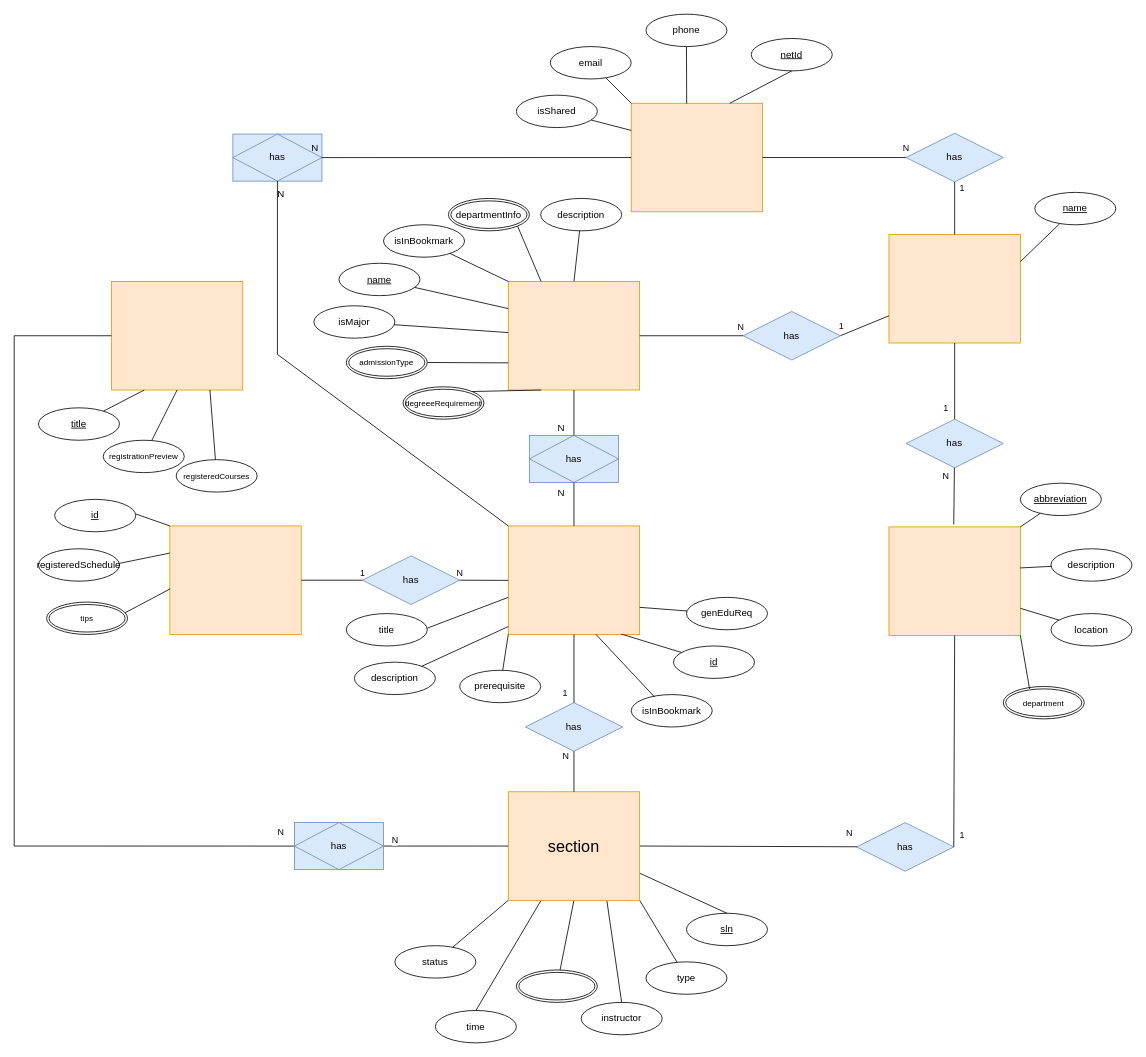
Some shapes in this 1146 by 1057 pixel diagram are drawn without their labels. Here are the shapes that lost their labels. From the top down, the centre of each, then its label:
At point 696,157: "student".
At point 954,288: "campus".
At point 177,335: "quarter".
At point 573,335: "program".
At point 235,579: "schedule".
At point 573,579: "course".
At point 954,580: "building".
At point 556,985: "additionalDetails".
